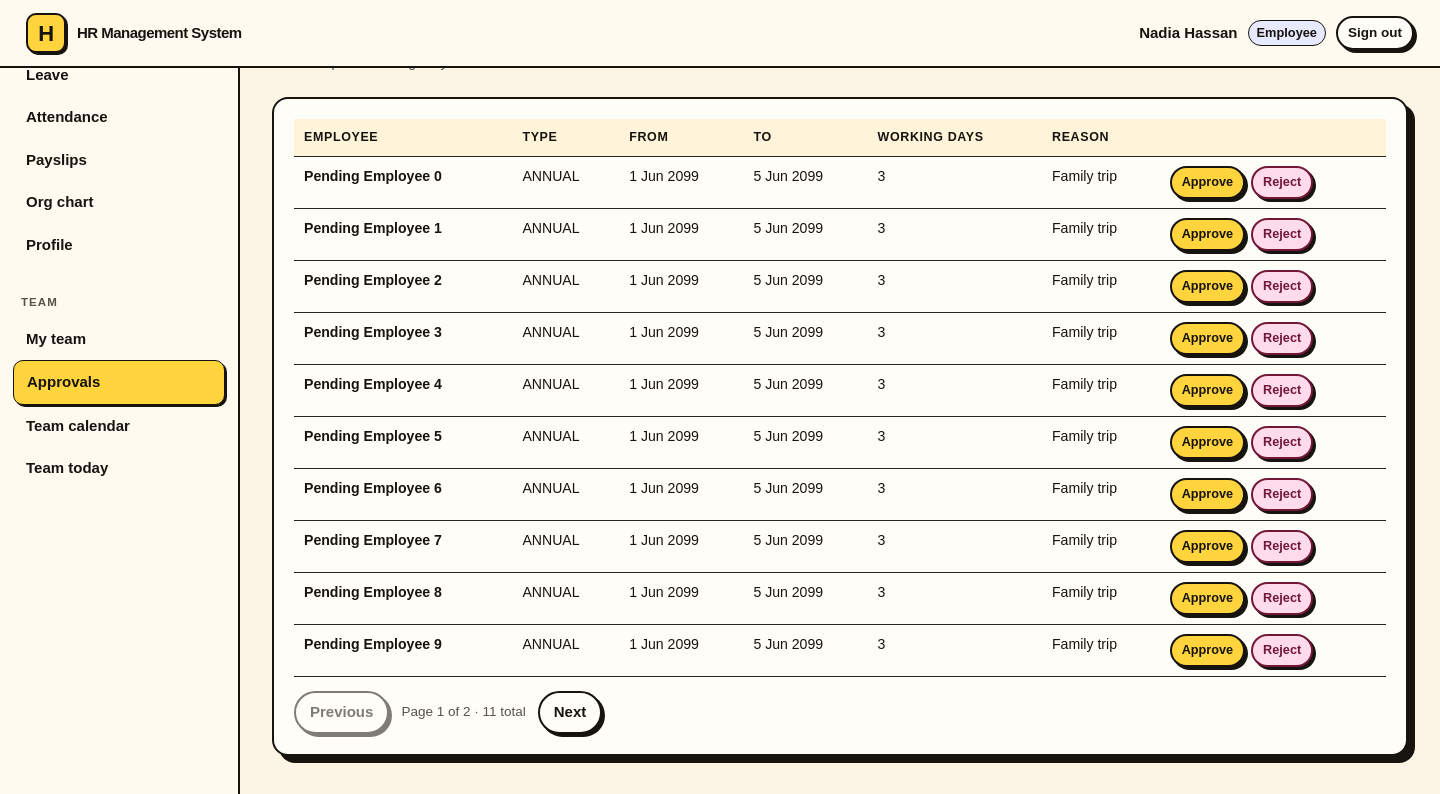
Scenario: approval pagination recovery › keeps recovery navigation if another reviewer empties the requested page
The image size is (1440, 794).
(page scrolled)
Expected: the column heading "Pending Employee 0" is shown, [294,156,512,208]
Click the button "Next": (570, 713) [538,691,602,734]
(page scrolled)
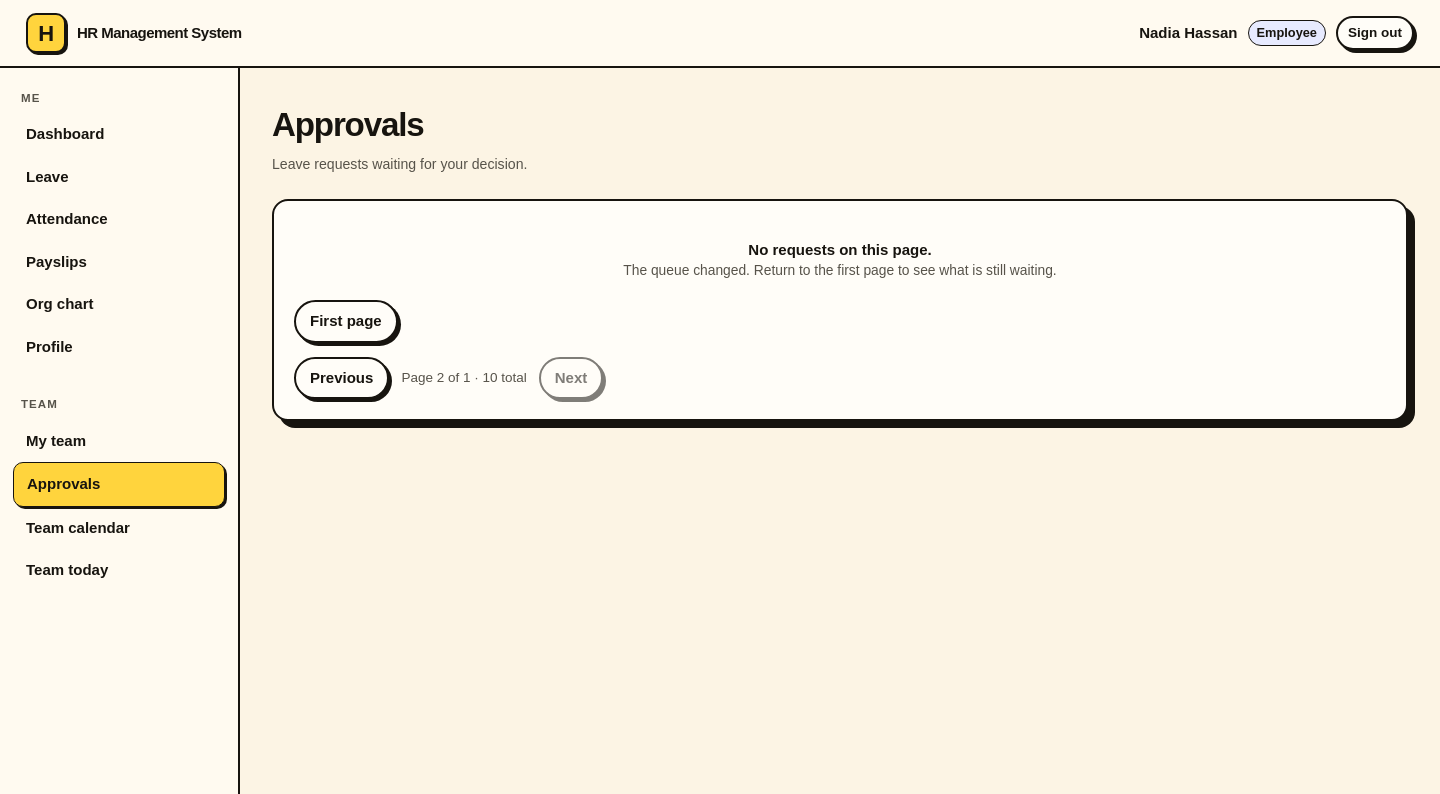
Expected: the text "No requests on this page." is shown, [748,241,932,258]
Expected: the button "Previous" is enabled, [294,356,389,399]
Click the button "First page": (346, 321) [294,300,398,342]
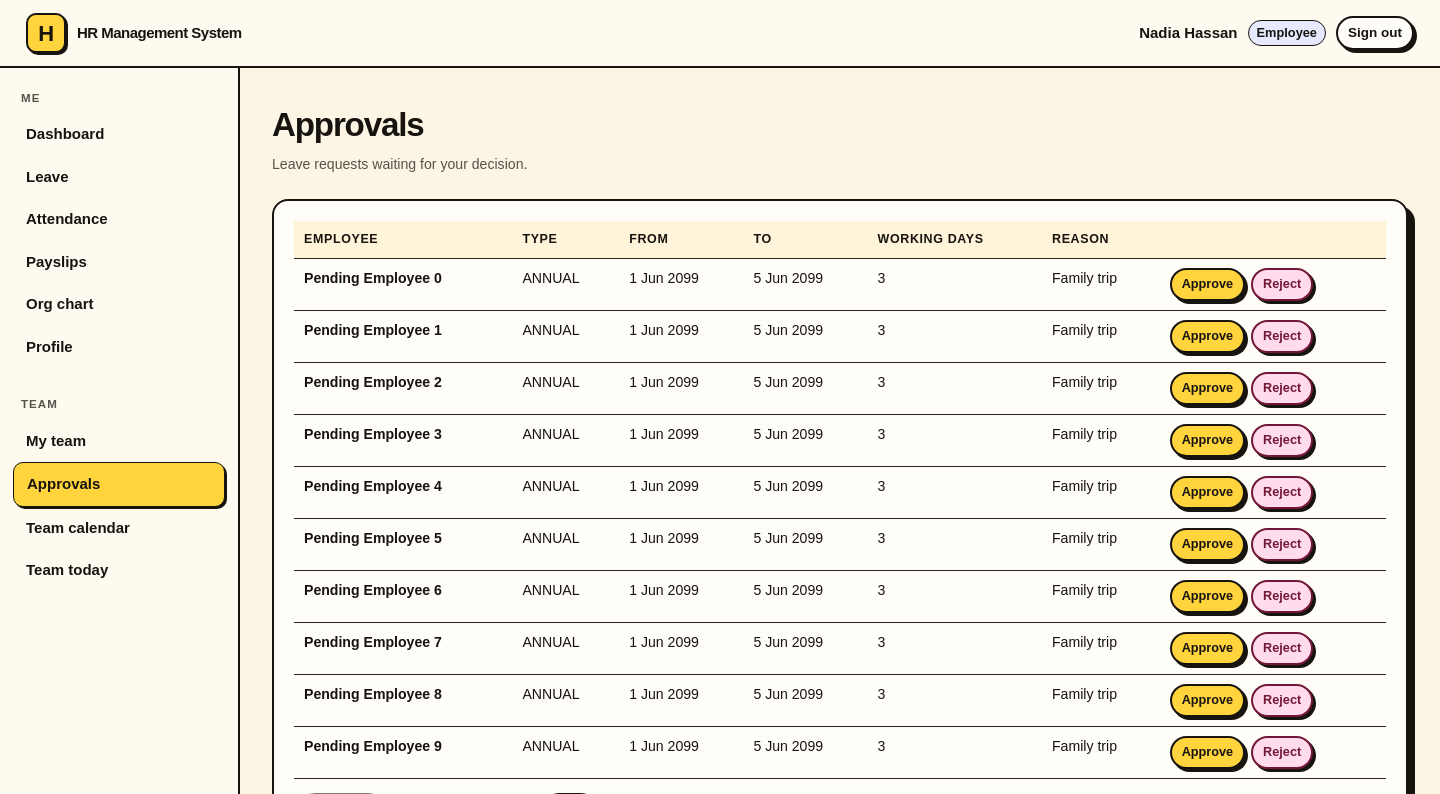
Expected: the column heading "Pending Employee 0" is shown, [294,258,512,310]
